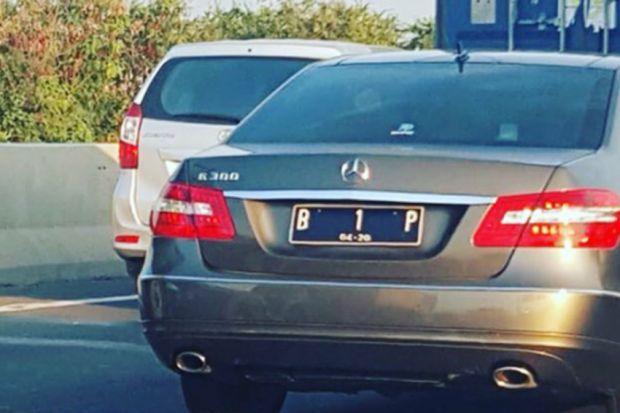plate: (287, 203, 421, 248)
